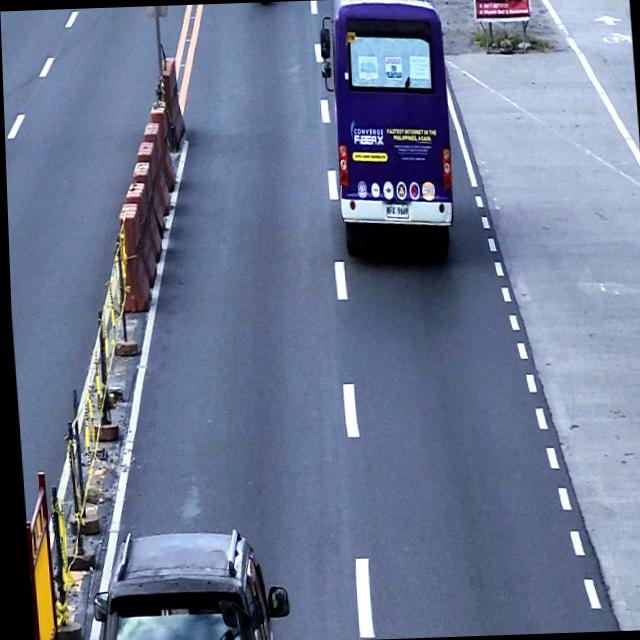Bus: (316, 0, 458, 259)
Car: (83, 529, 287, 640)
License-Plate: (382, 202, 408, 220)
